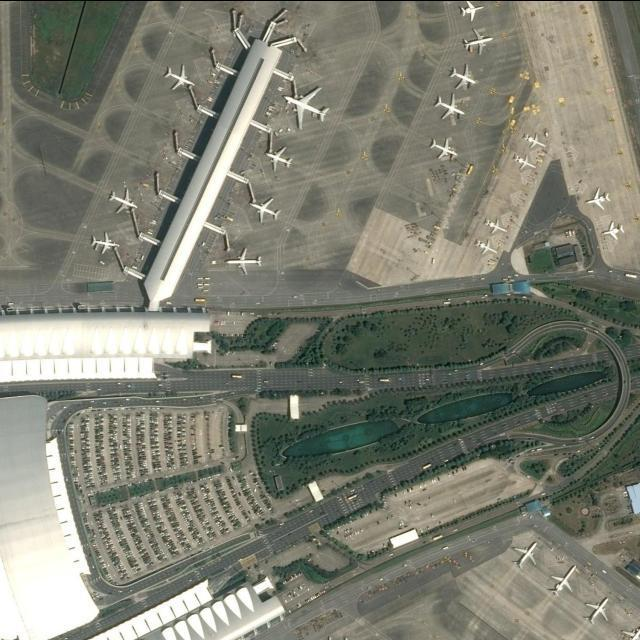Aircraft: (282, 84, 328, 128), (225, 247, 262, 273), (433, 92, 467, 120), (164, 61, 195, 89), (550, 563, 576, 595), (460, 27, 492, 53), (512, 537, 538, 567), (249, 197, 281, 221), (585, 595, 611, 624), (450, 63, 478, 89), (265, 145, 293, 171), (107, 186, 137, 210), (430, 135, 459, 159), (89, 231, 119, 254), (585, 187, 612, 209), (458, 0, 483, 20), (601, 220, 625, 239), (484, 217, 508, 233), (524, 132, 548, 147), (474, 238, 496, 254), (514, 153, 536, 168), (621, 623, 640, 640)
